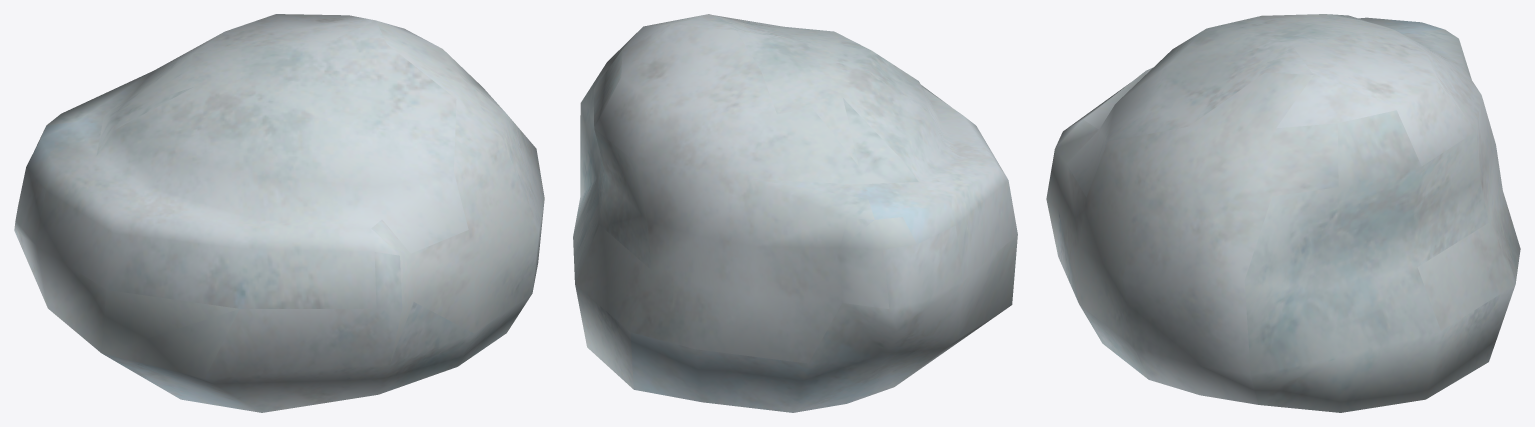
Rendered from P_RockDesert_Rock10.obj.
3 views of the same model, side by side, from view 1: azimuth 30°, elevation 25°; view 2: azimuth 150°, elevation 25°; view 3: azimuth 270°, elevation 25° (orthographic). The views are drawn at different scales.
Bounding box in the file's own units: 2.63 × 1.82 × 2.34.
